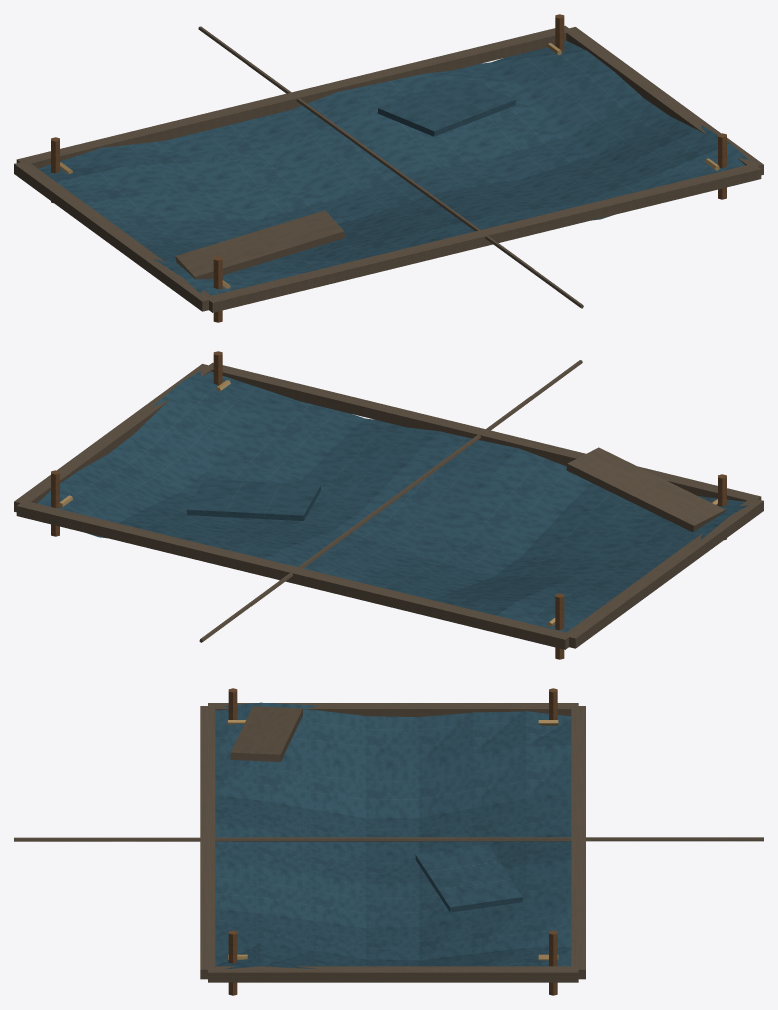
Rendered from en-016_camp_mat_groundsheet__wet.obj.
3 renders of one model, top to bottom at view 1: azimuth 30°, elevation 25°; view 2: azimuth 150°, elevation 25°; view 3: azimuth 270°, elevation 25°, orthographic.
Parts seen in each view (by area): view 1: en-016_camp_mat_groundsheet__wet; view 2: en-016_camp_mat_groundsheet__wet; view 3: en-016_camp_mat_groundsheet__wet.
Part boxes in pixels (left/top/right/bottom): en-016_camp_mat_groundsheet__wet: left=14, top=14, right=763, bottom=322; en-016_camp_mat_groundsheet__wet: left=14, top=351, right=763, bottom=659; en-016_camp_mat_groundsheet__wet: left=14, top=688, right=763, bottom=995.
Bounding box in the file's own units: 1.51 × 0.1659 × 1.78.
4 materials, 4 textured.
